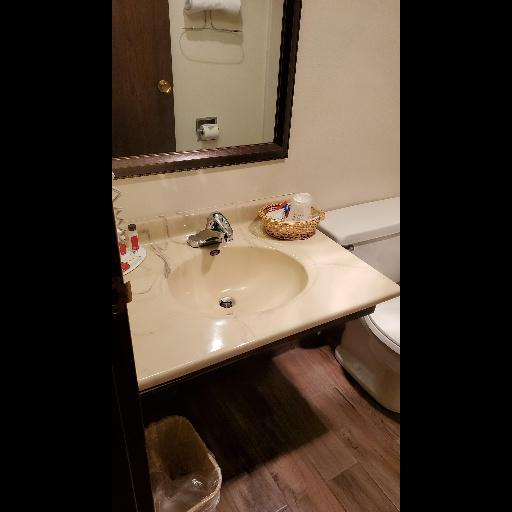clean_sink: (113, 186, 399, 397)
